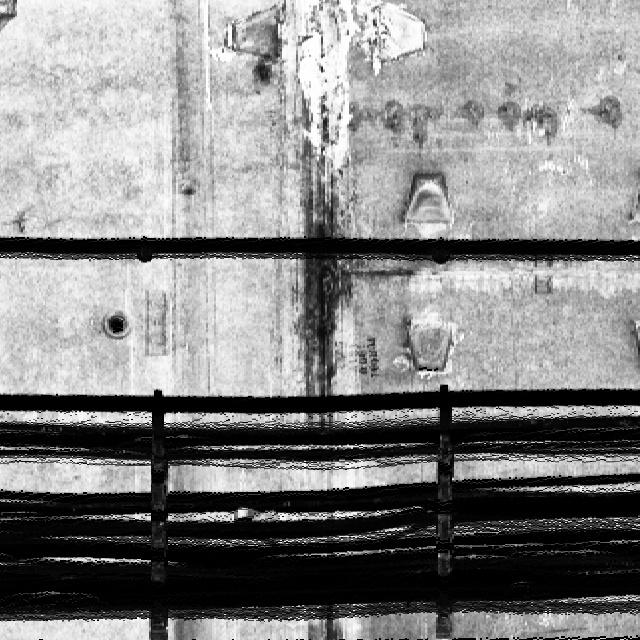leakage: (275, 0, 360, 410)
